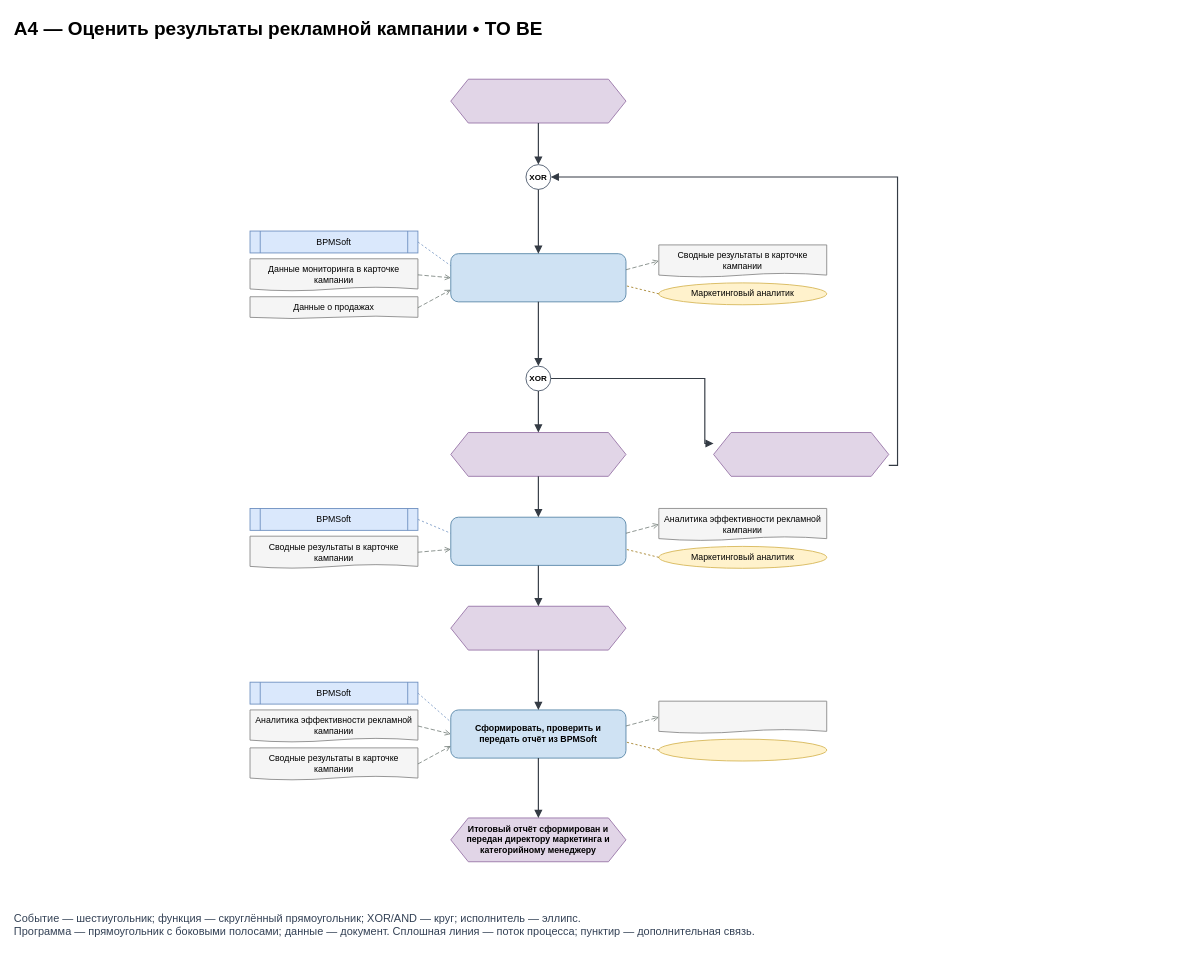
Some shapes in this 1193 by 970 pixel diagram are drawn without their labels. The centre of each missing label's shape, as x and y in pixels:
Аналитика эффективности рекламной кампании подготовлена: the point at 538,627
Выявлены пропуски или несопоставимые показатели: the point at 801,454
Итоговый отчёт, сформированный и переданный из BPMSoft: the point at 742,716
Менеджер рекламной кампании: the point at 742,749
Период кампании завершён; данные мониторинга подготовлены: the point at 538,100
Проверить показатели и оценить эффективность в BPMSoft: the point at 538,540
Проверить результаты и сформировать сводку в BPMSoft: the point at 538,277
Сводные результаты кампании сформированы и проверены: the point at 538,454
